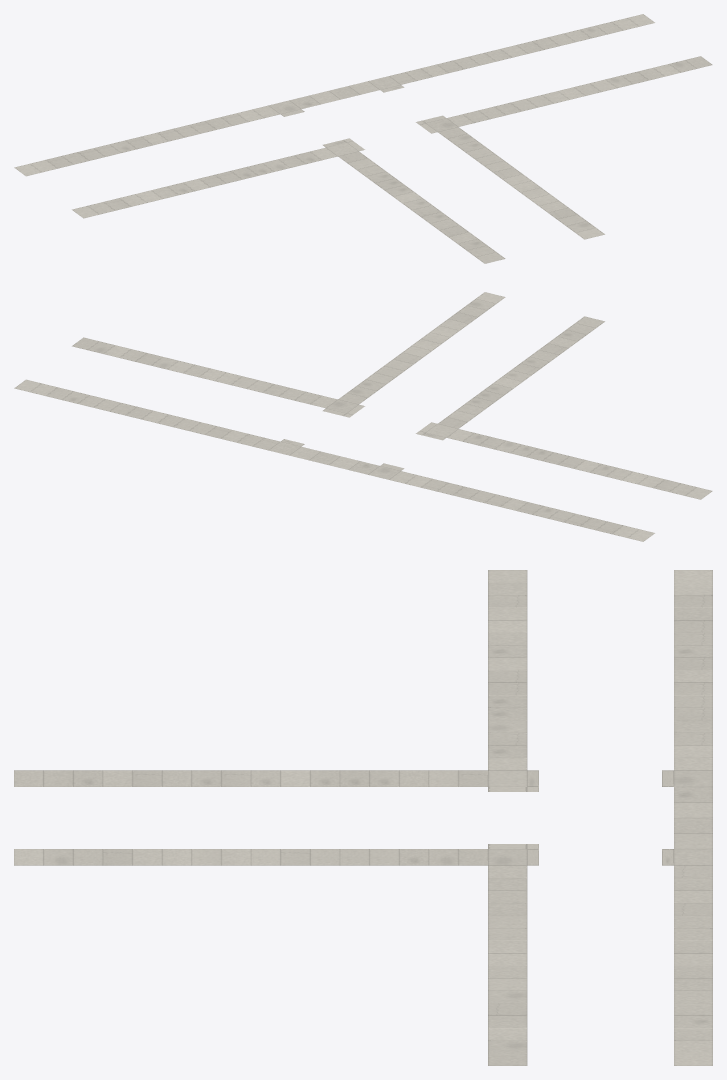
The model's file is paving_p1_TeeSouth.gltf.
The picture shows the model from 3 angles, top to bottom: view 1: azimuth 30°, elevation 25°; view 2: azimuth 150°, elevation 25°; view 3: azimuth 270°, elevation 25°; orthographic projection. The views are drawn at different scales.
Visible parts, largest first — view 1: paving_p1_TeeSouth; view 2: paving_p1_TeeSouth; view 3: paving_p1_TeeSouth.
Boxes of the visible parts, x1,y1,x2,y2 form: paving_p1_TeeSouth: [14, 14, 712, 263]; paving_p1_TeeSouth: [14, 292, 712, 541]; paving_p1_TeeSouth: [14, 570, 712, 1065].
Size of the model in its own units: 60 by 0 by 35.75.
Materials: 1 (1 with a texture image).
